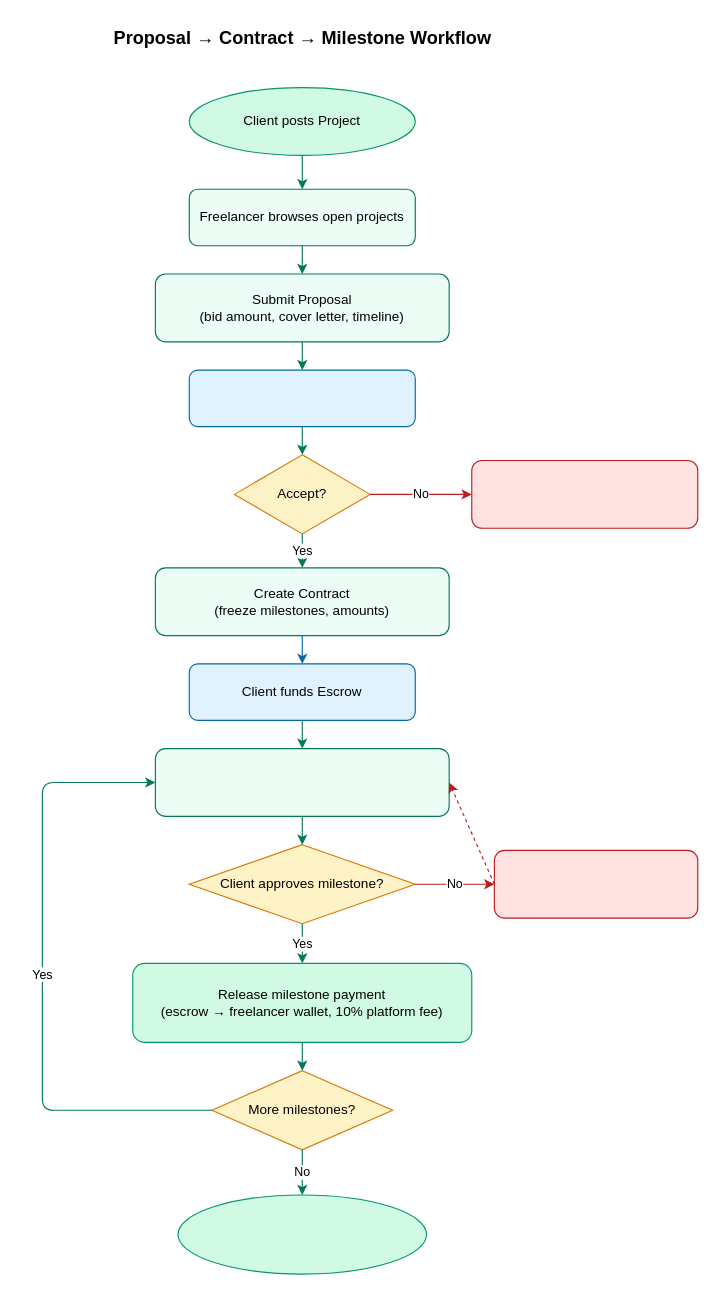
Image size: 718x1294. Some labels were removed from this diagram. Here are the shapes that lost their labels. From the top down, the box of each, then its label:
(188, 369, 415, 427): Client reviews proposals
(471, 459, 698, 528): Proposal rejected (notify freelancer)
(154, 747, 449, 816): Freelancer completes Milestone (upload deliverables)
(493, 849, 698, 918): Request Revision
(177, 1194, 427, 1274): Contract Completed (trigger reviews)
